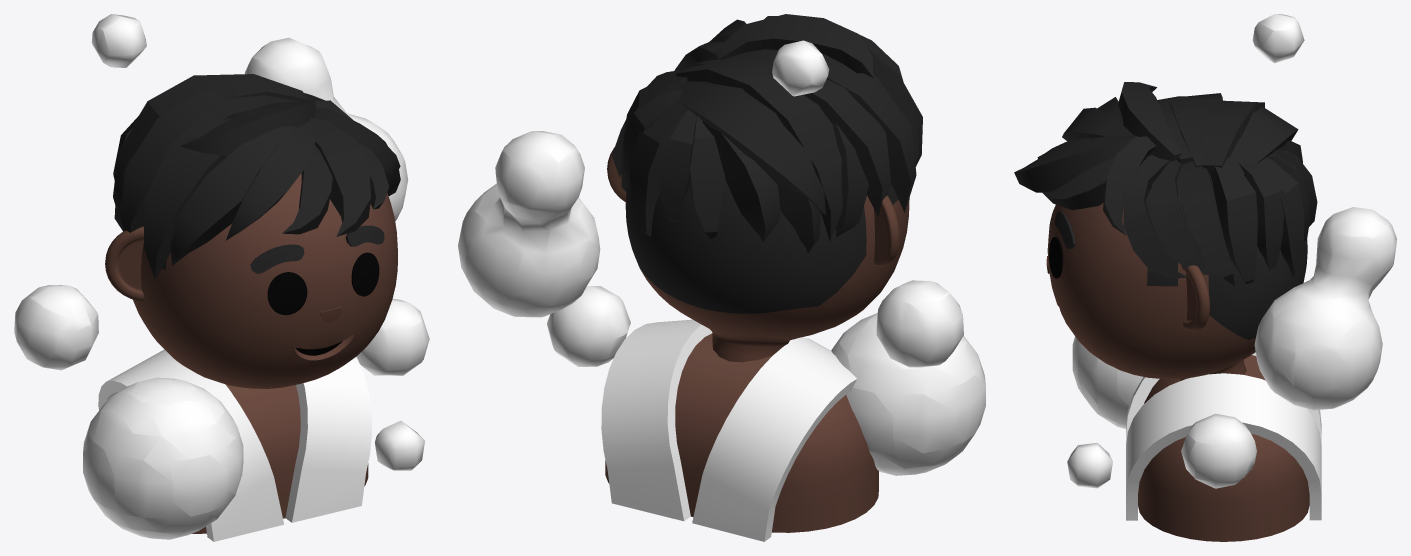
File: person_in_steamy_room.glb
3 renders of one model, left to right at view 1: azimuth 30°, elevation 25°; view 2: azimuth 150°, elevation 25°; view 3: azimuth 270°, elevation 25°, orthographic. The views are drawn at different scales.
Parts seen in each view (by area): view 1: Mball.009, Cube.3540, Roundcube.289, Sphere.253, Sphere.252, Circle.1319, Cylinder.239, Circle.1321; view 2: Cube.3540, Mball.009, Sphere.253, Roundcube.289, Sphere.252, Cylinder.239; view 3: Cube.3540, Mball.009, Roundcube.289, Sphere.252, Sphere.253, Cylinder.239, Circle.1319, Circle.1321.
Boxes of the visible parts, bbox=[...] form: Mball.009: bbox=[14, 14, 429, 539]; Cube.3540: bbox=[113, 74, 400, 279]; Roundcube.289: bbox=[133, 173, 397, 388]; Sphere.253: bbox=[98, 349, 371, 541]; Sphere.252: bbox=[192, 384, 368, 533]; Circle.1319: bbox=[267, 252, 379, 315]; Cylinder.239: bbox=[105, 226, 144, 301]; Circle.1321: bbox=[250, 225, 384, 273]; Cube.3540: bbox=[612, 14, 922, 253]; Mball.009: bbox=[458, 40, 985, 475]; Sphere.253: bbox=[601, 319, 856, 541]; Roundcube.289: bbox=[625, 179, 909, 362]; Sphere.252: bbox=[605, 333, 878, 532]; Cylinder.239: bbox=[607, 147, 899, 266]; Cube.3540: bbox=[1014, 82, 1317, 285]; Mball.009: bbox=[1067, 14, 1396, 488]; Roundcube.289: bbox=[1047, 155, 1307, 380]; Sphere.252: bbox=[1138, 355, 1309, 541]; Sphere.253: bbox=[1126, 352, 1321, 520]; Cylinder.239: bbox=[1181, 265, 1209, 331]; Circle.1319: bbox=[1049, 207, 1063, 278]; Circle.1321: bbox=[1054, 211, 1075, 249].
Size of the model in its own units: 2.66 by 2.8 by 2.23.
2 materials, 2 textured.
